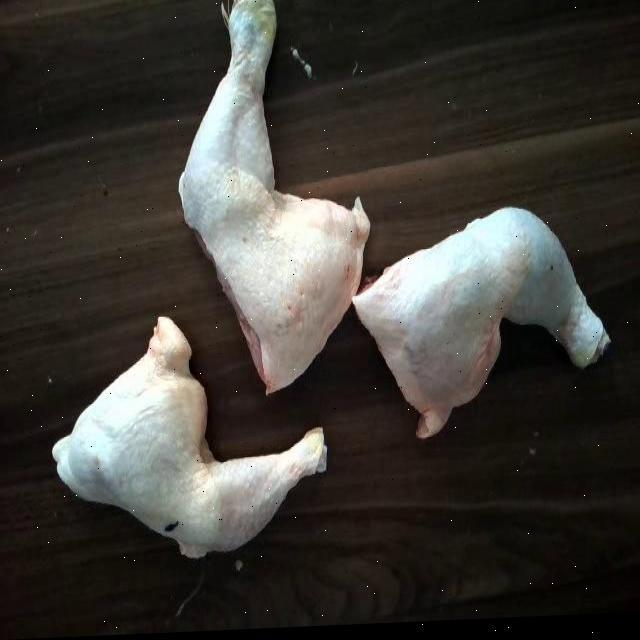quater: (174, 0, 363, 394), (37, 316, 331, 564), (323, 205, 613, 438)
